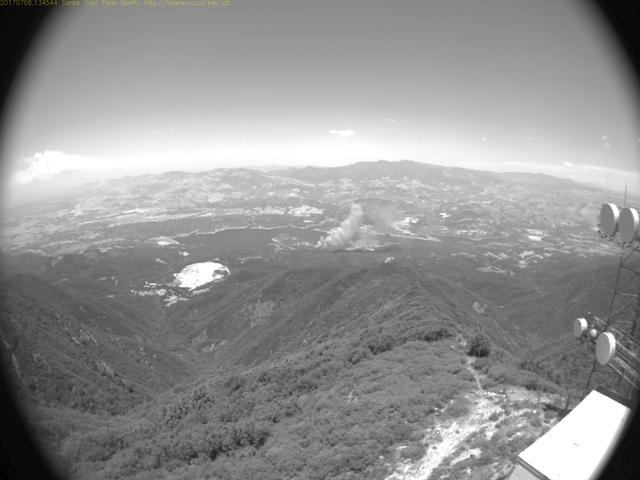smoke: (303, 200, 386, 256)
